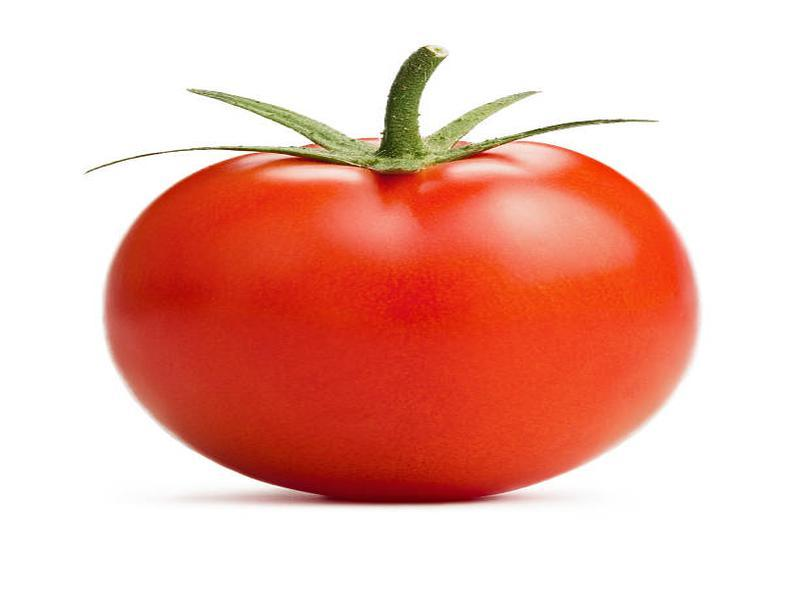full_tomato: (93, 52, 760, 543)
